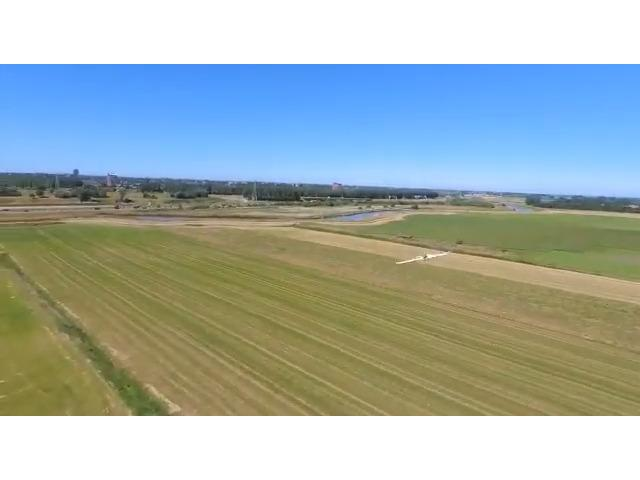Anti-Drone: (384, 245, 468, 271)
